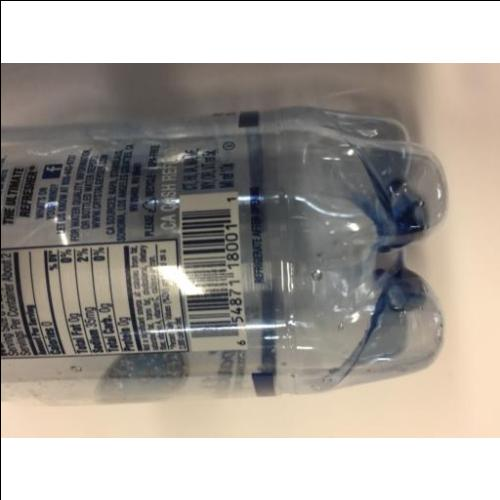plastic: (8, 109, 448, 393)
